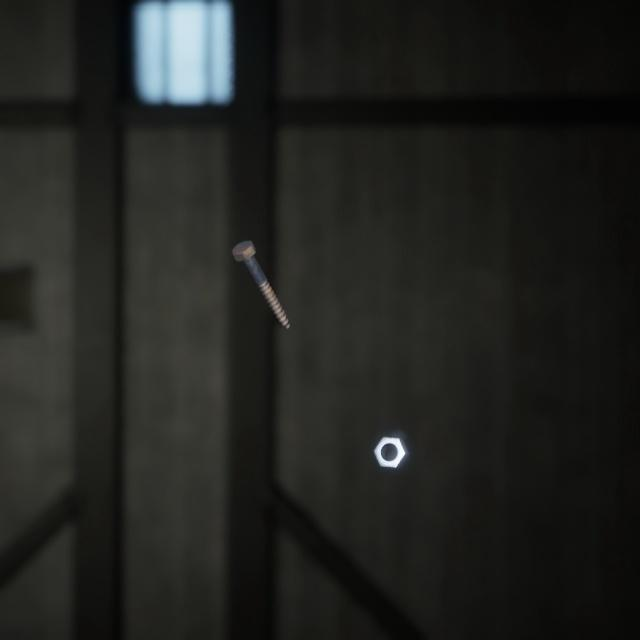bolt: (227, 218, 294, 316)
nut: (369, 412, 414, 453)
